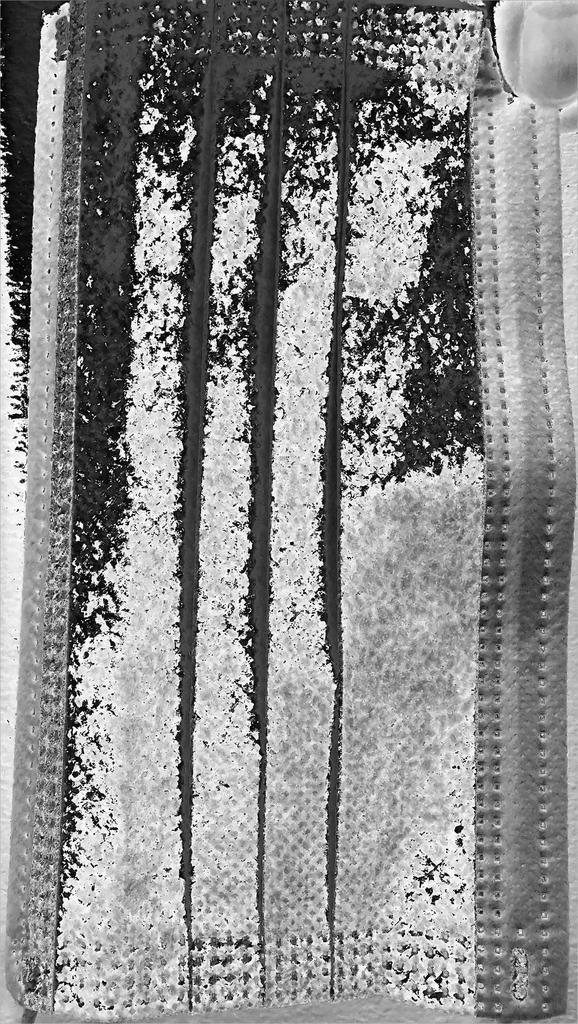High GSM: (38, 1, 497, 1024)
